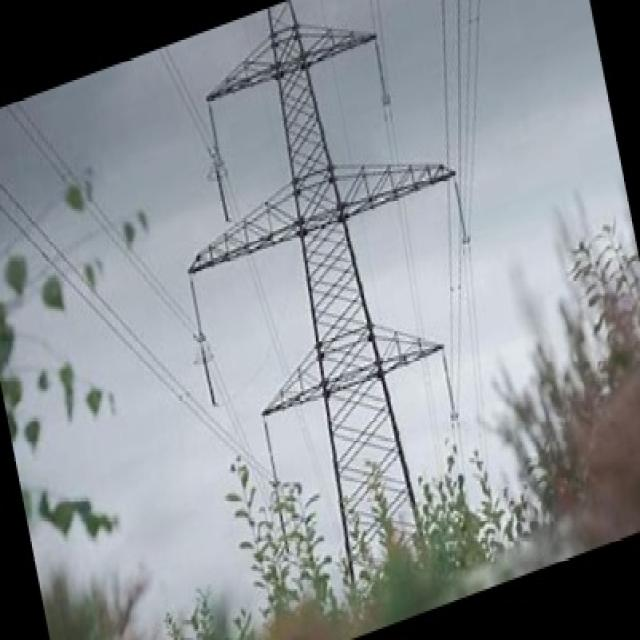utility poles: (215, 391, 499, 579)
